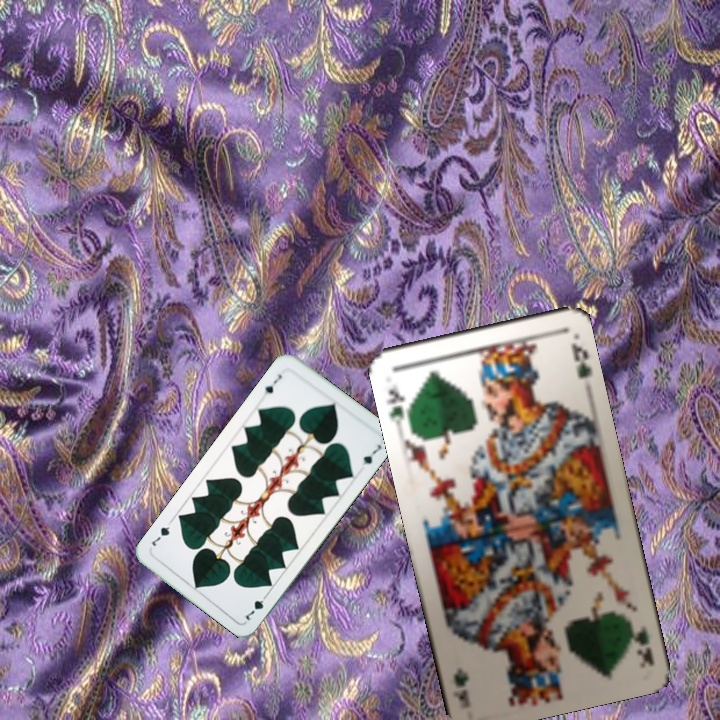G7: (238, 589, 271, 623), (261, 370, 285, 397)
GK: (622, 612, 656, 667), (383, 384, 407, 426)
